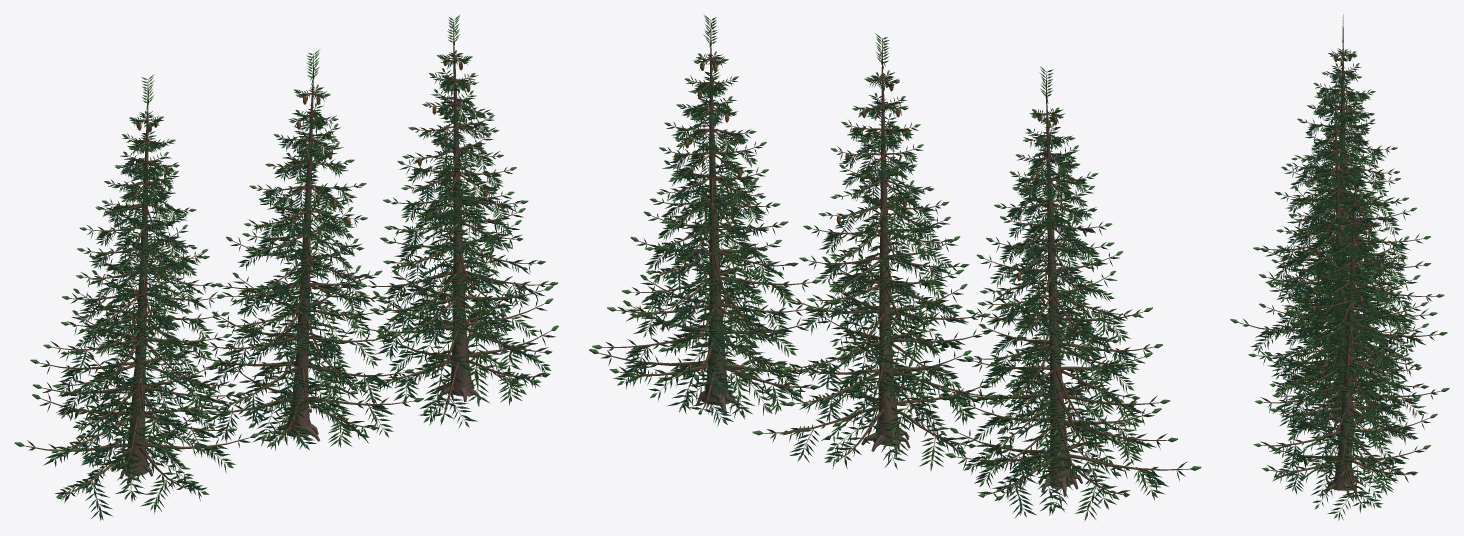
Rendered from Sapins.fbx.
3 renders of one model, left to right at view 1: azimuth 30°, elevation 25°; view 2: azimuth 150°, elevation 25°; view 3: azimuth 270°, elevation 25°, orthographic. The views are drawn at different scales.
Parts seen in each view (by area): view 1: Sapin3_Aiguilles, Sapin3_AiguillesSapin, Sapin1_Aiguilles, Sapin2_Aiguilles, Sapin2_AiguillesSapin, Sapin1_AiguillesSapin, Sapin3_Branches, Sapin3_AiguillesSombres, Sapin2_Branches, Sapin1_Branches, Sapin2_AiguillesSombres, Sapin1_AiguillesSombres (+6 smaller); view 2: Sapin3_Aiguilles, Sapin3_AiguillesSapin, Sapin2_Aiguilles, Sapin1_Aiguilles, Sapin1_AiguillesSapin, Sapin2_AiguillesSapin, Sapin3_Branches, Sapin3_AiguillesSombres, Sapin2_Branches, Sapin2_AiguillesSombres, Sapin1_Branches, Sapin1_AiguillesSombres (+6 smaller); view 3: Sapin1_Aiguilles, Sapin1_AiguillesSapin, Sapin1_Branches, Sapin1_AiguillesSombres, Sapin3_Aiguilles, Sapin2_Aiguilles, Sapin3_AiguillesSapin, Sapin2_AiguillesSapin, Sapin3_AiguillesSombres, Sapin2_AiguillesSombres, Sapin2_Branches, Sapin3_Branches (+6 smaller).
Boxes of the visible parts, <box> form: Sapin3_Aiguilles: <box>43,138,235,513</box>; Sapin3_AiguillesSapin: <box>57,139,224,520</box>; Sapin1_Aiguilles: <box>371,77,550,425</box>; Sapin2_Aiguilles: <box>202,112,393,450</box>; Sapin2_AiguillesSapin: <box>207,115,394,449</box>; Sapin1_AiguillesSapin: <box>376,79,539,428</box>; Sapin3_Branches: <box>25,79,249,511</box>; Sapin3_AiguillesSombres: <box>27,111,250,502</box>; Sapin2_Branches: <box>190,54,412,443</box>; Sapin1_Branches: <box>366,19,550,420</box>; Sapin2_AiguillesSombres: <box>190,84,410,445</box>; Sapin1_AiguillesSombres: <box>361,52,555,425</box>; Sapin3_Aiguilles: <box>971,134,1164,521</box>; Sapin3_AiguillesSapin: <box>965,135,1168,518</box>; Sapin2_Aiguilles: <box>780,103,977,470</box>; Sapin1_Aiguilles: <box>624,80,805,419</box>; Sapin1_AiguillesSapin: <box>613,83,802,426</box>; Sapin2_AiguillesSapin: <box>789,103,980,467</box>; Sapin3_Branches: <box>952,71,1189,511</box>; Sapin3_AiguillesSombres: <box>950,108,1187,499</box>; Sapin2_Branches: <box>764,38,989,460</box>; Sapin2_AiguillesSombres: <box>766,72,996,468</box>; Sapin1_Branches: <box>600,20,817,417</box>; Sapin1_AiguillesSombres: <box>601,53,819,412</box>; Sapin1_Aiguilles: <box>1269,222,1408,520</box>; Sapin1_AiguillesSapin: <box>1278,222,1414,508</box>; Sapin1_Branches: <box>1262,173,1429,511</box>; Sapin1_AiguillesSombres: <box>1260,196,1430,512</box>; Sapin3_Aiguilles: <box>1255,70,1418,381</box>; Sapin2_Aiguilles: <box>1272,150,1427,451</box>; Sapin3_AiguillesSapin: <box>1250,71,1425,372</box>; Sapin2_AiguillesSapin: <box>1271,151,1412,439</box>; Sapin3_AiguillesSombres: <box>1242,48,1437,383</box>; Sapin2_AiguillesSombres: <box>1259,124,1437,444</box>; Sapin2_Branches: <box>1257,99,1440,436</box>; Sapin3_Branches: <box>1239,21,1438,369</box>.
Size of the model in its own units: 53.21 by 38.27 by 21.64.
